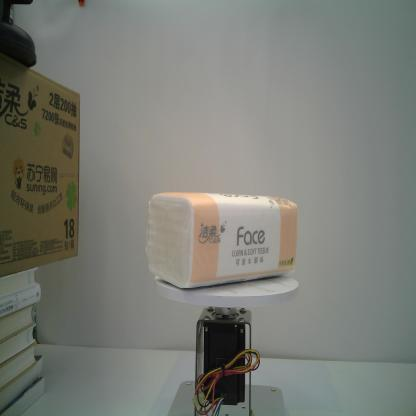Tissue: (145, 190, 299, 289)
